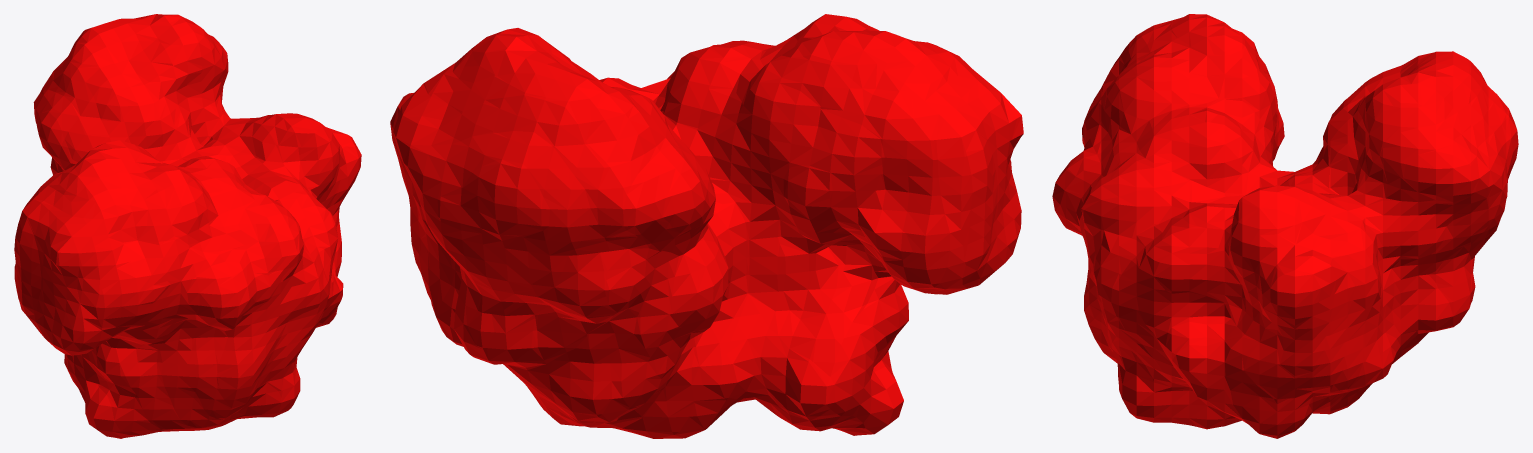
The model's file is gnd_coarse.dae.
3 renders of one model, left to right at view 1: azimuth 30°, elevation 25°; view 2: azimuth 150°, elevation 25°; view 3: azimuth 270°, elevation 25°, orthographic. The views are drawn at different scales.
Visible parts, largest first — view 1: gnd; view 2: gnd; view 3: gnd.
Boxes of the visible parts, x1=… form: gnd: x1=14, y1=14, x2=361, y2=438; gnd: x1=390, y1=14, x2=1023, y2=438; gnd: x1=1052, y1=14, x2=1518, y2=438.
Bounding box in the file's own units: 91.03 × 72.71 × 85.71.
